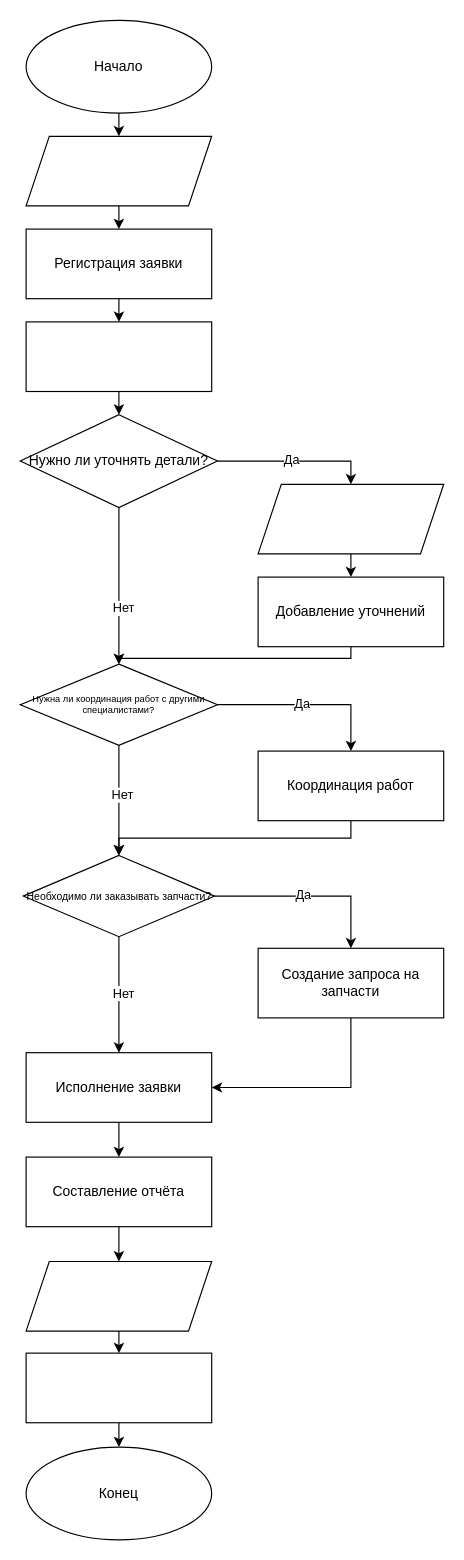
Image size: 464x1560. Some labels were removed from this diagram. The shapes that lost their labels are listed below. From the top down, each one's centre as x and y in pixels, then its label:
the point at 118,170: Заявка от клинта/сотрудника
the point at 118,356: Обработка заявки
the point at 350,518: Уточнения от клинта/сотрудника
the point at 118,1295: Вывод отчёта
the point at 118,1387: Анализ отчёта
